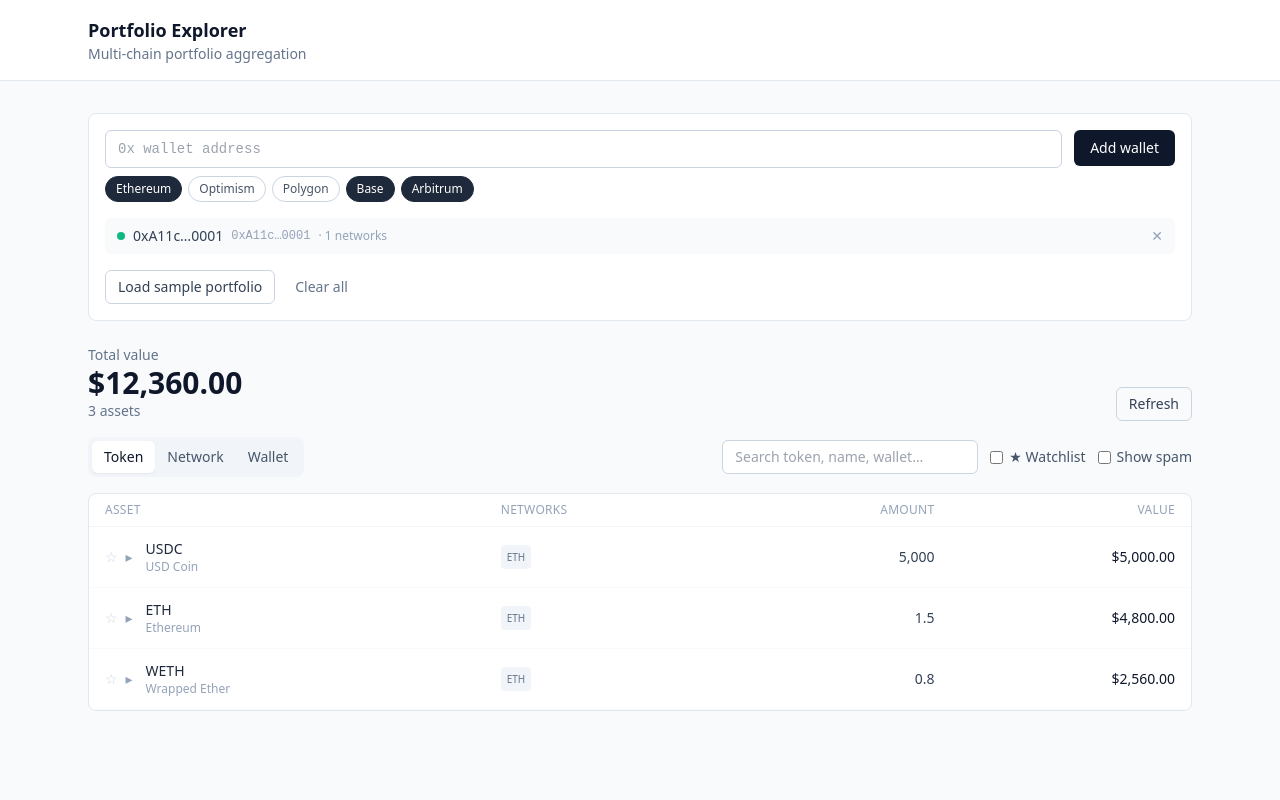
Test: App end-to-end › hides spam until the toggle is enabled
The width and height of the screenshot is (1280, 800).
Expected: the text "USDC" is shown, [146, 539, 183, 558]
Expected: the text "CLAIM-AIRDROP.COM" is not shown
Click the checkbox labelled "Show spam".
click(1104, 457)  # box [1098, 450, 1111, 464]
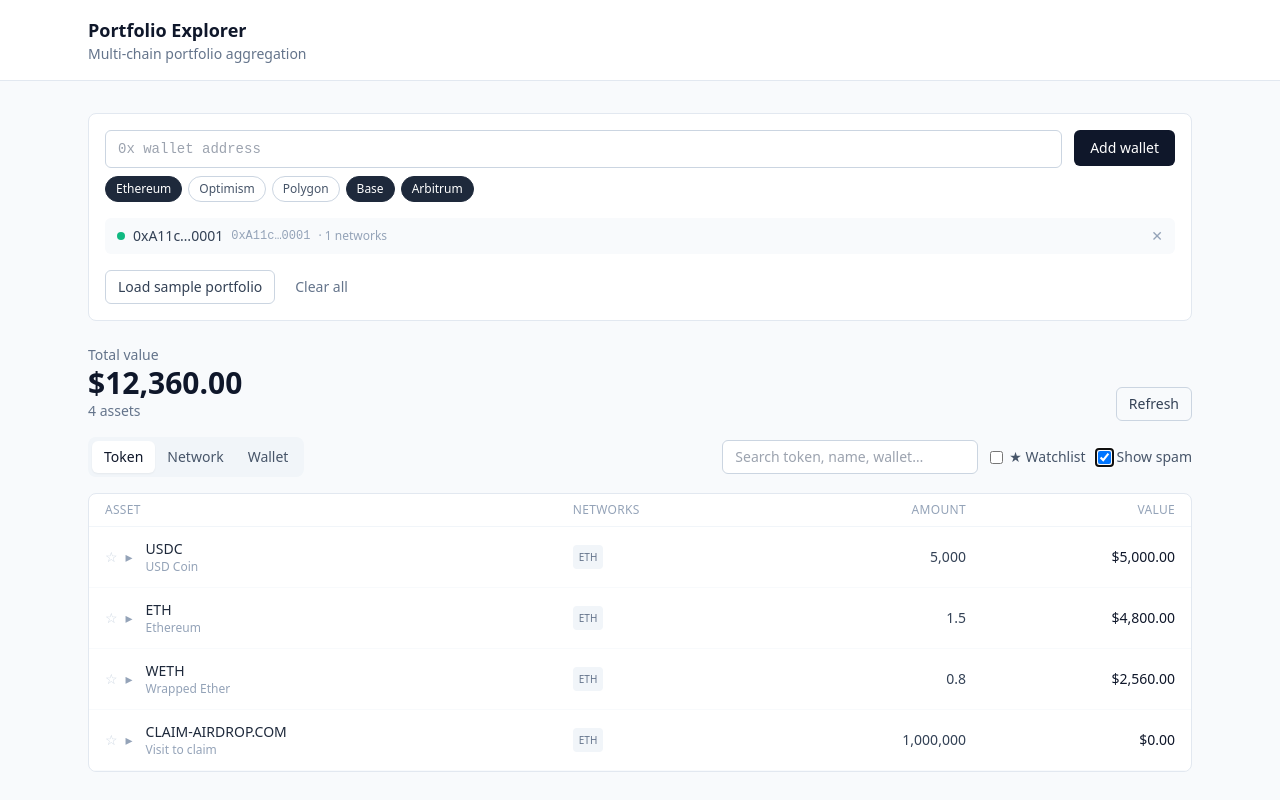
Expected: the text "CLAIM-AIRDROP.COM" is shown, [146, 722, 287, 742]
